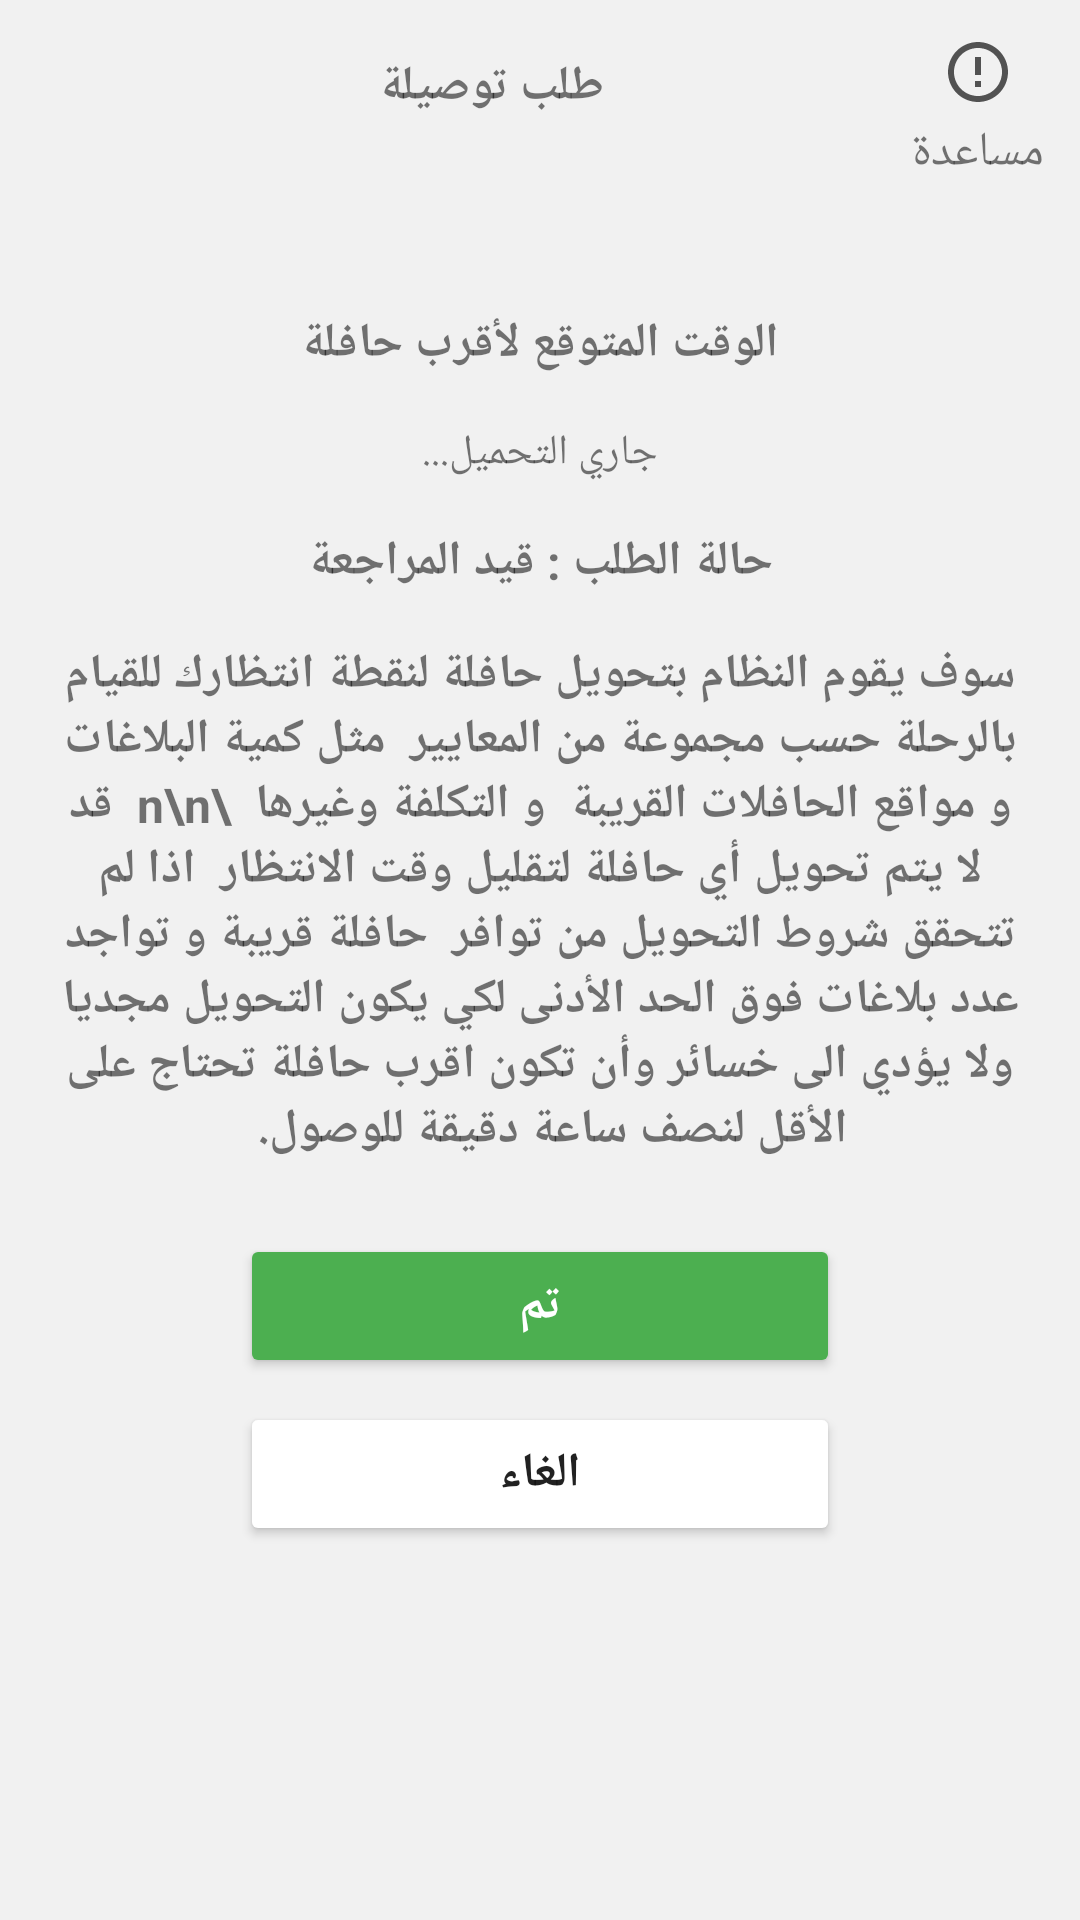

Point at icon controls on the screen. Image size 1080*1920, points as (x,y).
error: (978,72)
